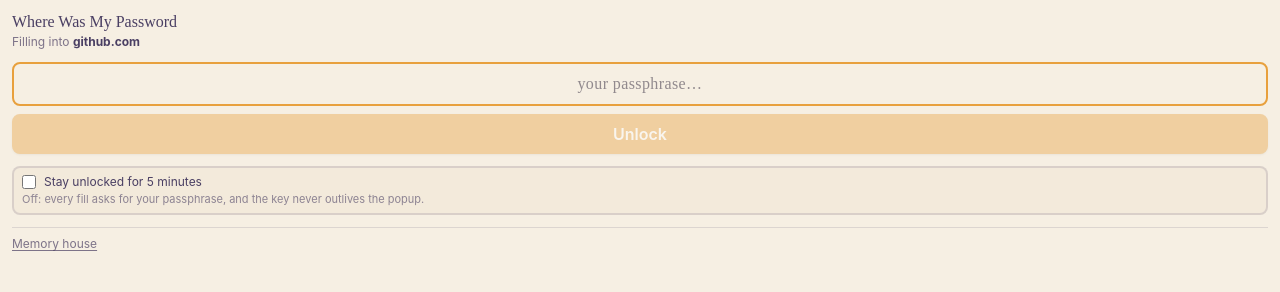
Test: unlocking › refuses a phrase that does not open the vault, and shows nothing from inside it
Type "not the right words at all" into the password field with placeholder "your passphrase…" at (640, 84), box [12,62,1268,106]
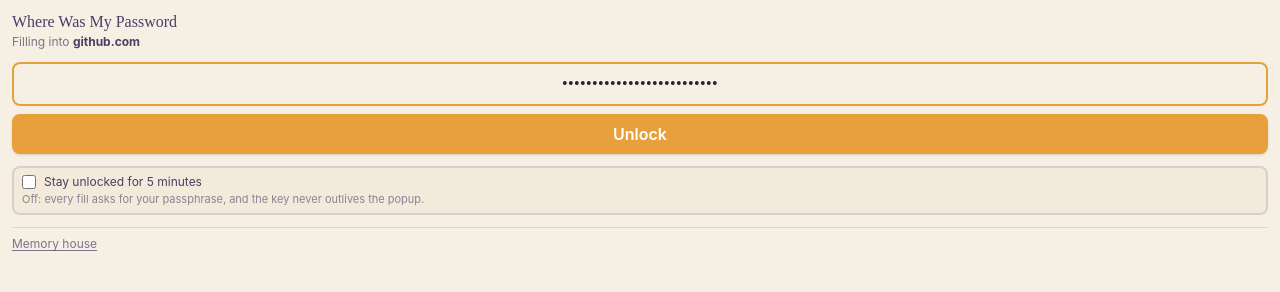
Click the button "Unlock" at (640, 134), box [12,114,1268,154]
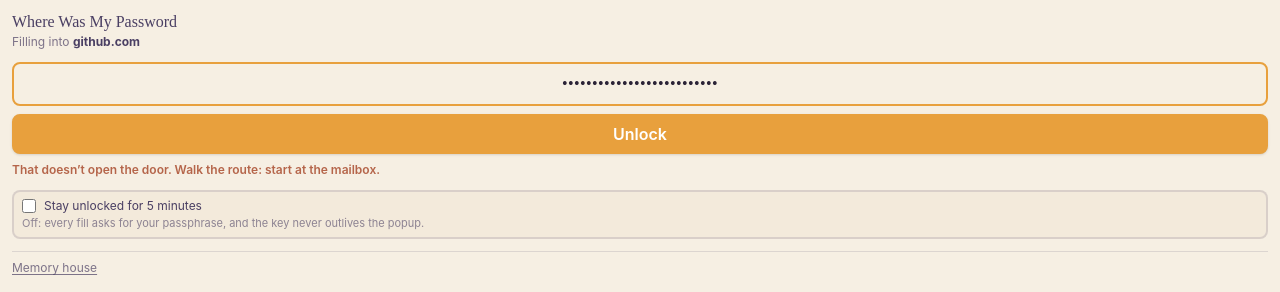
Result: the text "start at the mailbox" is shown at [12,162,380,177]
